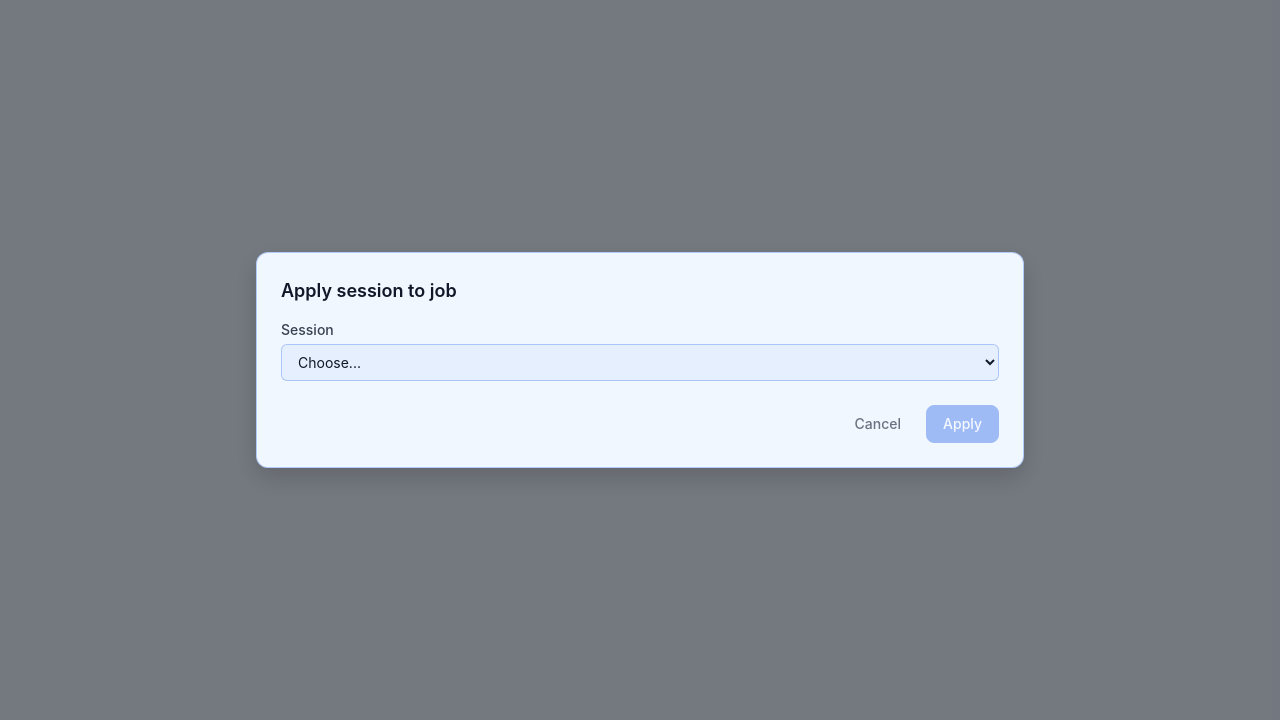
ApplySessionDialog › appends "in job <short-id>" to a collision row whose existing_job_id differs from the current job, and hides Overwrite
Select "Movie MKV (movie)" in the dropdown with test id "apply-session-select" at point(640, 362), box [281, 344, 999, 381]
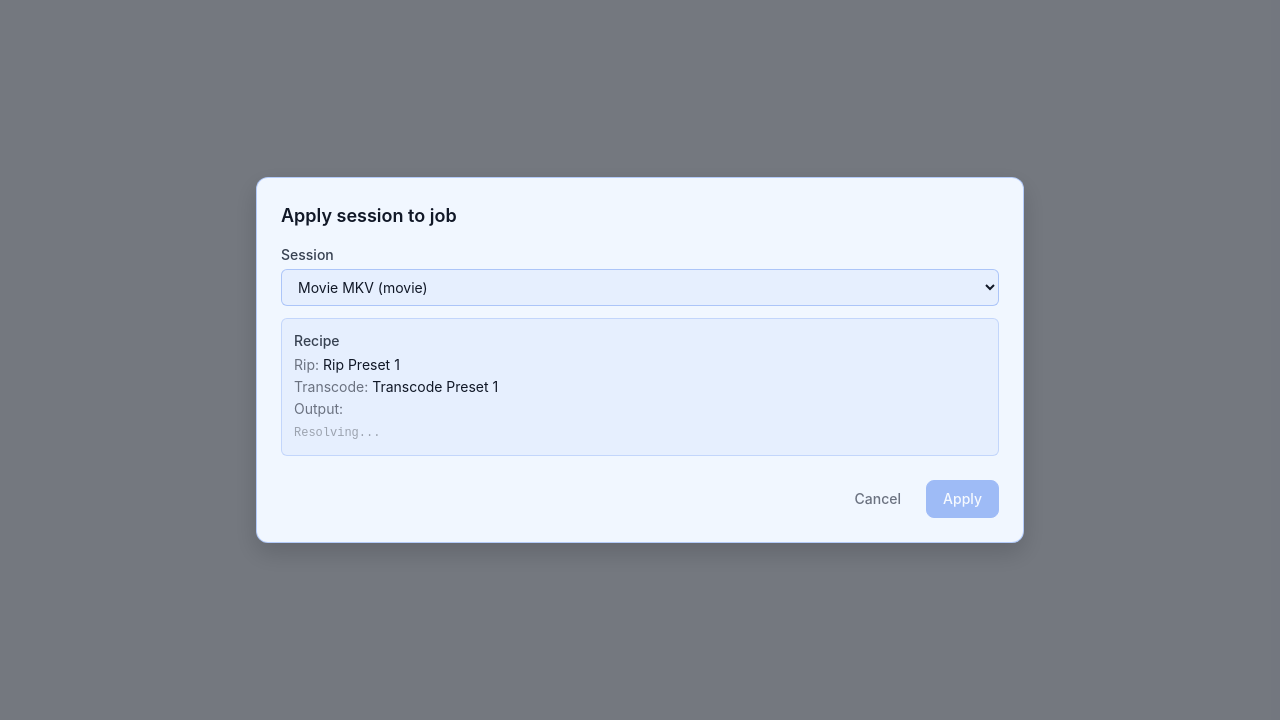
Click the button with test id "apply-session-apply" at point(963, 499), box [926, 480, 999, 518]
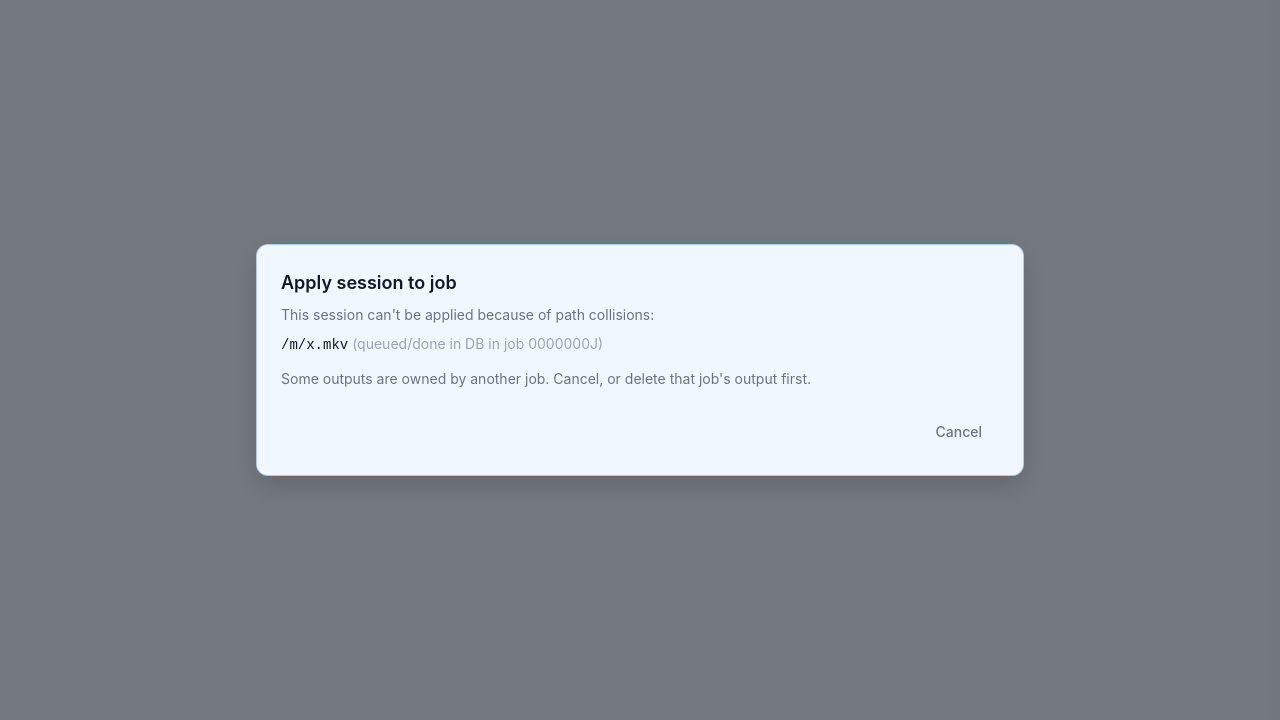
Expected: the text "/m/x.mkv" is shown, [281, 337, 348, 353]
Expected: the text "(queued/done in DB in job 0000000J)" is shown, [352, 335, 603, 352]
Expected: the text with test id "cross-job-collision-notice" shows "Some outputs are owned by another job. Cancel, or delete that job's output first.", [281, 370, 811, 387]
